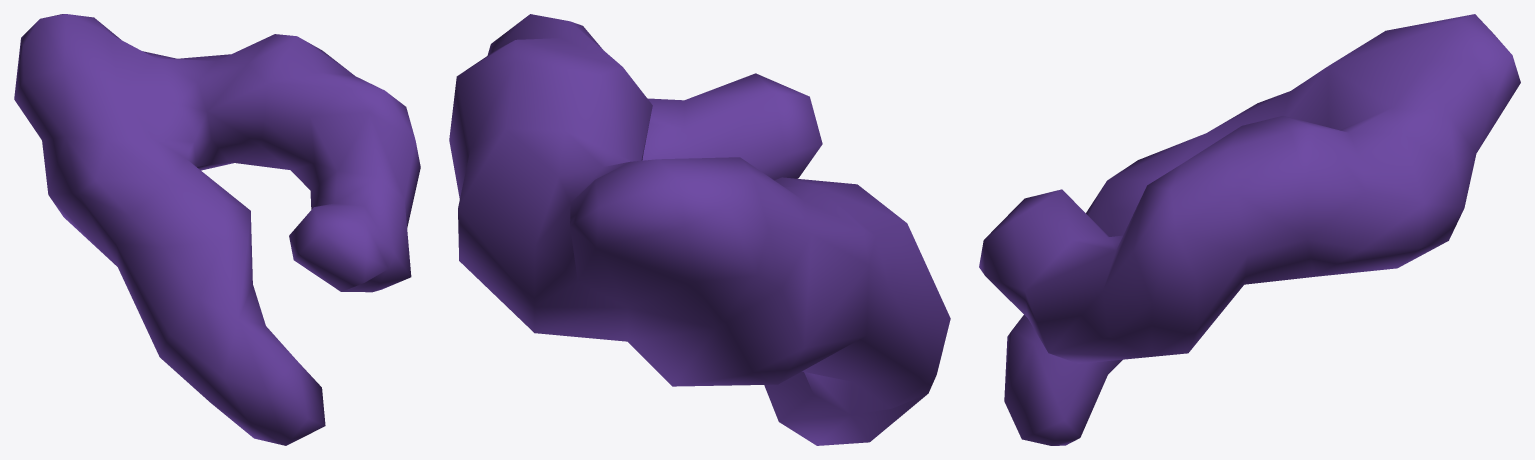
Rendered from HIV1_P6_SwissMod_0_1_1.dae.
The picture shows the model from 3 angles, left to right: view 1: azimuth 30°, elevation 25°; view 2: azimuth 150°, elevation 25°; view 3: azimuth 270°, elevation 25°; orthographic projection. The views are drawn at different scales.
Visible parts, largest first — view 1: CoarseMS_HIV1_P6_SM_0_0_1; view 2: CoarseMS_HIV1_P6_SM_0_0_1; view 3: CoarseMS_HIV1_P6_SM_0_0_1.
Boxes of the visible parts, x1=… form: CoarseMS_HIV1_P6_SM_0_0_1: x1=14, y1=14, x2=420, y2=445; CoarseMS_HIV1_P6_SM_0_0_1: x1=449, y1=14, x2=950, y2=445; CoarseMS_HIV1_P6_SM_0_0_1: x1=979, y1=14, x2=1520, y2=445.
Size of the model in its own units: 0.3715 by 0.3868 by 0.4848.
